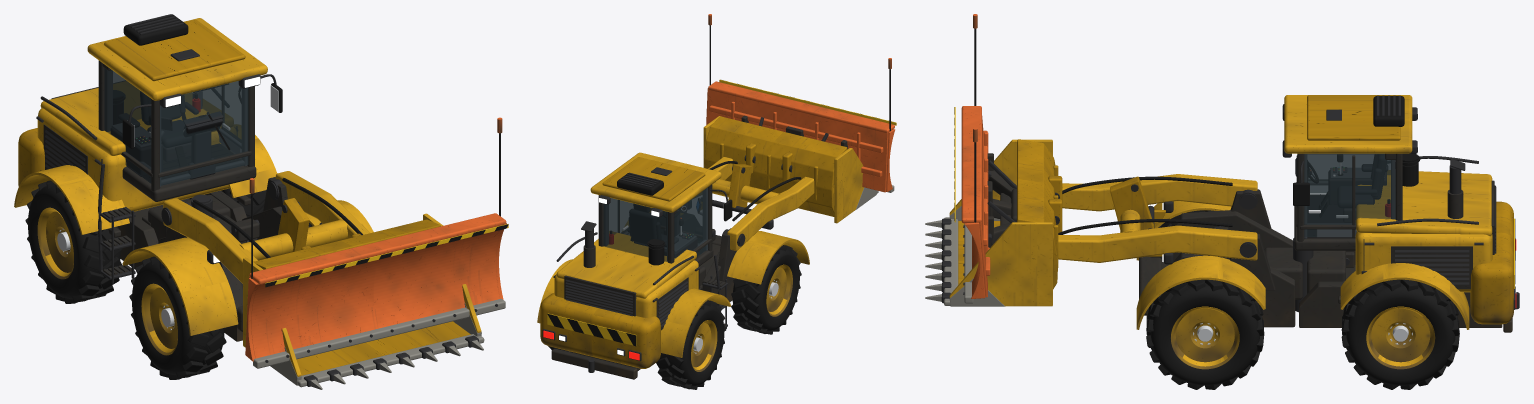
File: loader.glb
The picture shows the model from 3 angles, left to right: view 1: azimuth 30°, elevation 25°; view 2: azimuth 150°, elevation 25°; view 3: azimuth 270°, elevation 25°; orthographic projection. The views are drawn at different scales.
Visible parts, largest first — view 1: plow_paint_orange, frame_rear_paint_yellow, frame_rear_glass, frame_rear_frame_dark, arm_paint_yellow, frame_front_paint_yellow, frame_rear_paint_yellow_dark, wheel_rear_right_tyre_rubber, bucket_paint_yellow_dark, wheel_front_right_tyre_rubber, frame_rear_iron, bucket_steel_worn (+16 smaller); view 2: frame_rear_paint_yellow, plow_paint_orange, bucket_paint_yellow_dark, frame_rear_paint_yellow_dark, frame_rear_glass, frame_rear_frame_dark, frame_rear_iron, wheel_front_right_tyre_rubber, arm_paint_yellow, wheel_rear_right_tyre_rubber, frame_front_paint_yellow, bucket_paint_yellow (+12 smaller); view 3: frame_rear_paint_yellow, arm_paint_yellow, frame_rear_frame_dark, wheel_front_left_tyre_rubber, wheel_rear_left_tyre_rubber, frame_rear_paint_yellow_dark, frame_front_frame_dark, frame_rear_glass, bucket_paint_yellow, plow_paint_orange, bucket_paint_yellow_dark, frame_rear_iron (+15 smaller).
Boxes of the visible parts, x1,y1,x2,y2 form: plow_paint_orange: [245, 117, 506, 361]; frame_rear_paint_yellow: [14, 18, 277, 234]; frame_rear_glass: [104, 68, 248, 185]; frame_rear_frame_dark: [43, 60, 256, 275]; arm_paint_yellow: [163, 171, 370, 283]; frame_front_paint_yellow: [122, 200, 373, 335]; frame_rear_paint_yellow_dark: [18, 20, 245, 186]; wheel_rear_right_tyre_rubber: [25, 180, 122, 303]; bucket_paint_yellow_dark: [253, 219, 470, 375]; wheel_front_right_tyre_rubber: [129, 256, 226, 379]; frame_rear_iron: [36, 14, 276, 283]; bucket_steel_worn: [270, 303, 484, 389]; frame_rear_paint_yellow: [537, 152, 731, 357]; plow_paint_orange: [706, 14, 895, 192]; bucket_paint_yellow_dark: [704, 116, 847, 216]; frame_rear_paint_yellow_dark: [540, 157, 705, 368]; frame_rear_glass: [603, 188, 708, 261]; frame_rear_frame_dark: [551, 184, 725, 379]; frame_rear_iron: [542, 167, 728, 372]; wheel_front_right_tyre_rubber: [731, 245, 801, 334]; arm_paint_yellow: [708, 157, 814, 250]; wheel_rear_right_tyre_rubber: [656, 300, 726, 389]; frame_front_paint_yellow: [727, 231, 809, 284]; bucket_paint_yellow: [703, 116, 863, 223]; frame_rear_paint_yellow: [1284, 95, 1492, 329]; arm_paint_yellow: [1058, 174, 1257, 262]; frame_rear_frame_dark: [1294, 153, 1512, 332]; wheel_front_left_tyre_rubber: [1146, 279, 1264, 389]; wheel_rear_left_tyre_rubber: [1341, 279, 1459, 389]; frame_rear_paint_yellow_dark: [1307, 95, 1513, 324]; frame_front_frame_dark: [1139, 189, 1302, 327]; frame_rear_glass: [1304, 153, 1395, 236]; bucket_paint_yellow: [949, 139, 1052, 306]; plow_paint_orange: [961, 14, 990, 298]; bucket_paint_yellow_dark: [958, 139, 1062, 289]; frame_rear_iron: [1282, 95, 1519, 312].
Size of the model in its own units: 3.5 by 3.91 by 7.6.
34 materials, 8 textured.
